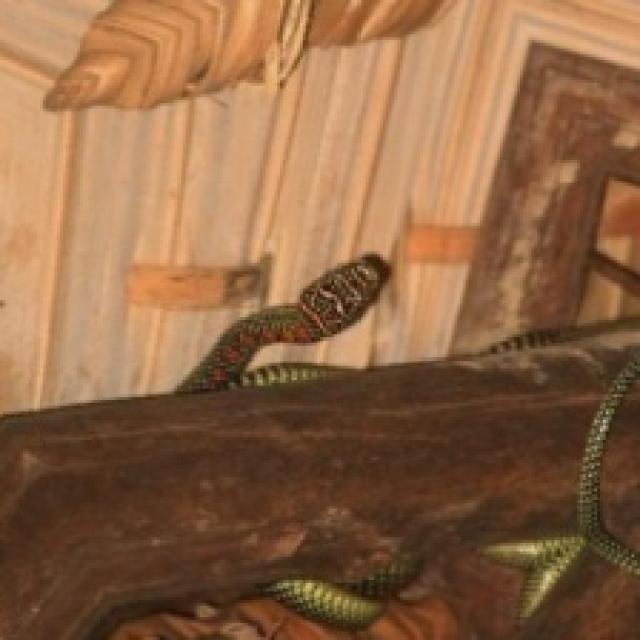paradise tree snake: (177, 254, 389, 391), (578, 351, 640, 574), (265, 556, 418, 628), (485, 536, 586, 619), (484, 319, 640, 354), (241, 362, 331, 387)
